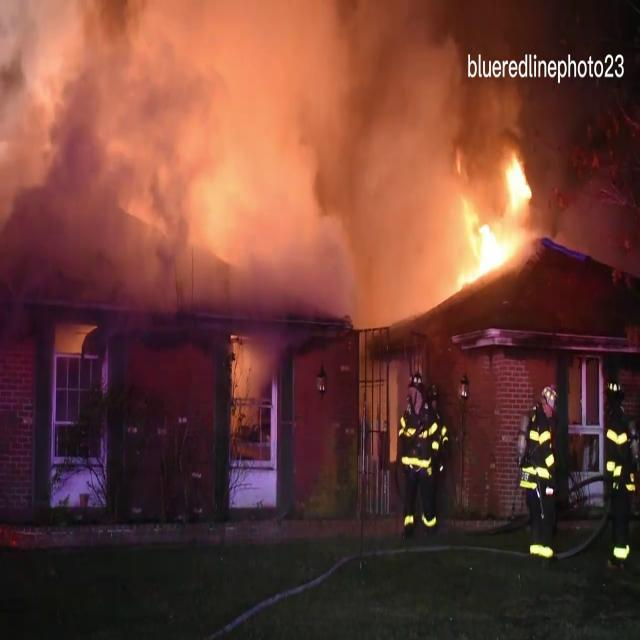Fire: (440, 146, 542, 294)
Smoke: (0, 0, 471, 291)
